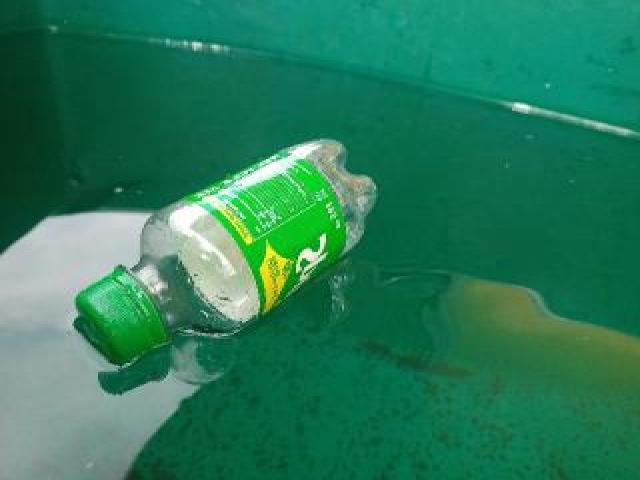Bottle: (68, 134, 382, 368)
